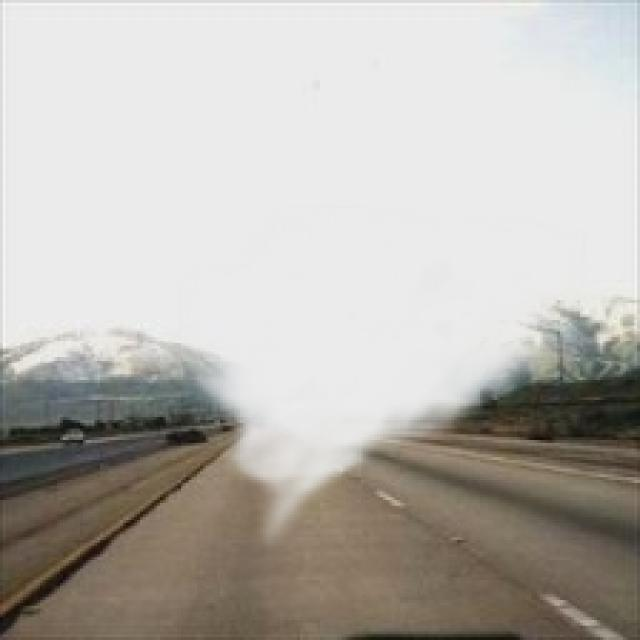smoke: (177, 206, 586, 554)
